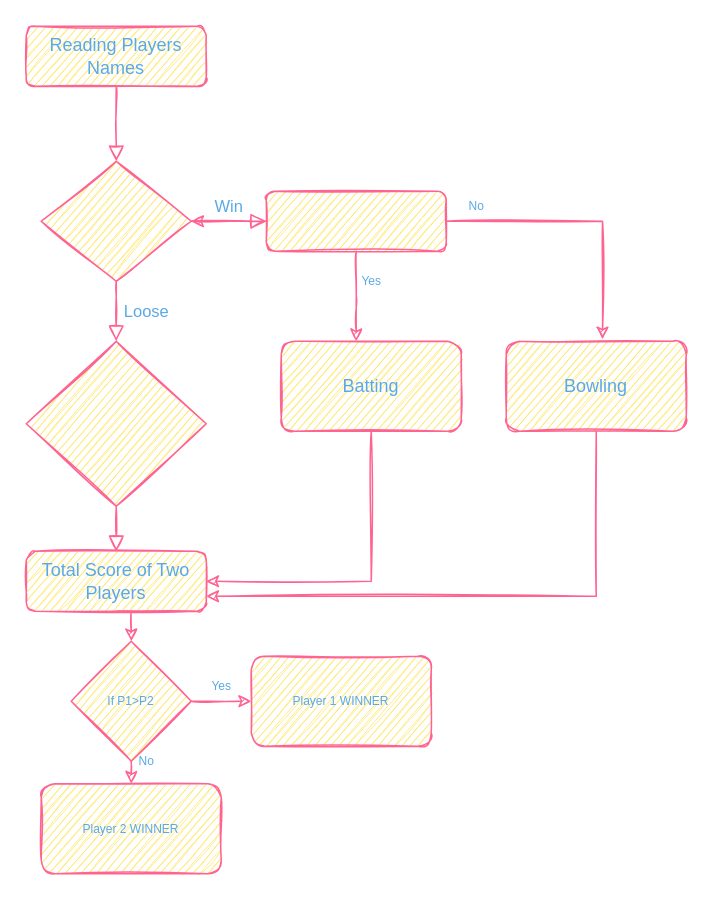
The diagram is 713 pixels wide and 900 high, and some of its shapes have lost their labels. Here are the shapes that lost their labels. From the top down, the box of each, then its label:
(40, 160, 191, 281): Asking for Toss?
(265, 190, 446, 251): Select Batting/Bowling
(25, 340, 206, 506): 2nd Player will select Batting/Bowling?
